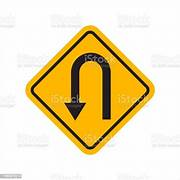back: (27, 24, 157, 154)
